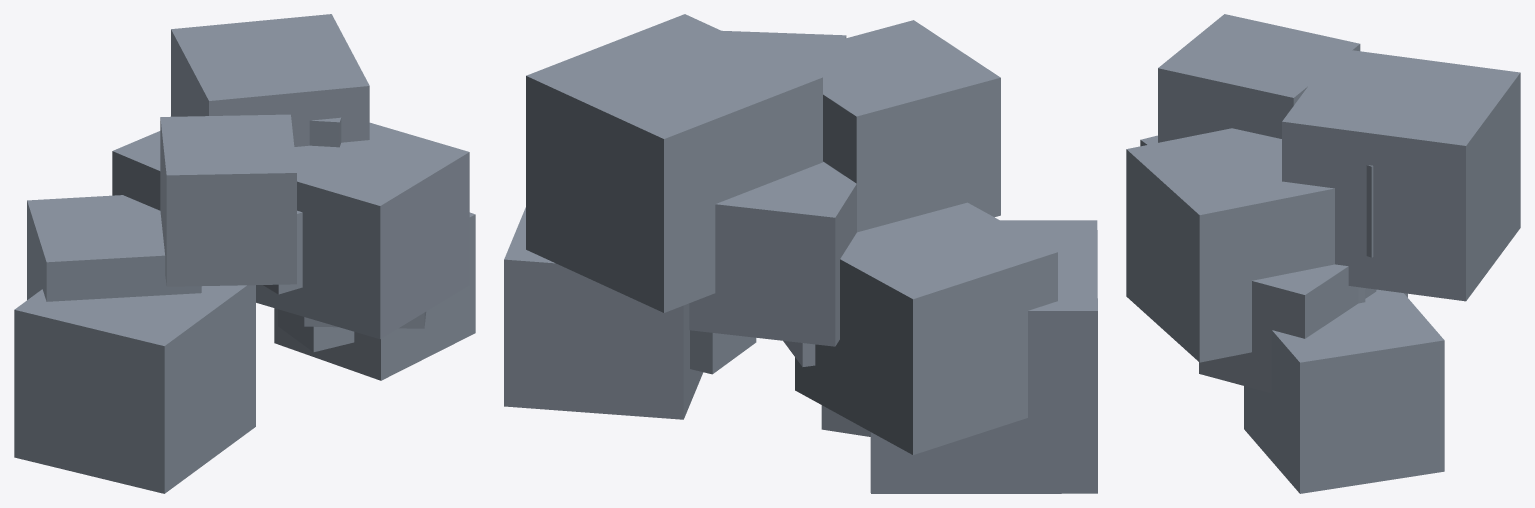
The model's file is smoke.glb.
The picture shows the model from 3 angles, left to right: view 1: azimuth 30°, elevation 25°; view 2: azimuth 150°, elevation 25°; view 3: azimuth 270°, elevation 25°; orthographic projection. The views are drawn at different scales.
Parts seen in each view (by area): view 1: Smoke Puff dimensional effect.001; view 2: Smoke Puff dimensional effect.001; view 3: Smoke Puff dimensional effect.001.
Boxes of the visible parts, box(x1,y1,x2,y2) form: Smoke Puff dimensional effect.001: box(14, 14, 475, 493); Smoke Puff dimensional effect.001: box(504, 14, 1097, 493); Smoke Puff dimensional effect.001: box(1126, 14, 1520, 493).
Bounding box in the file's own units: 1.9 × 1.17 × 1.28.
